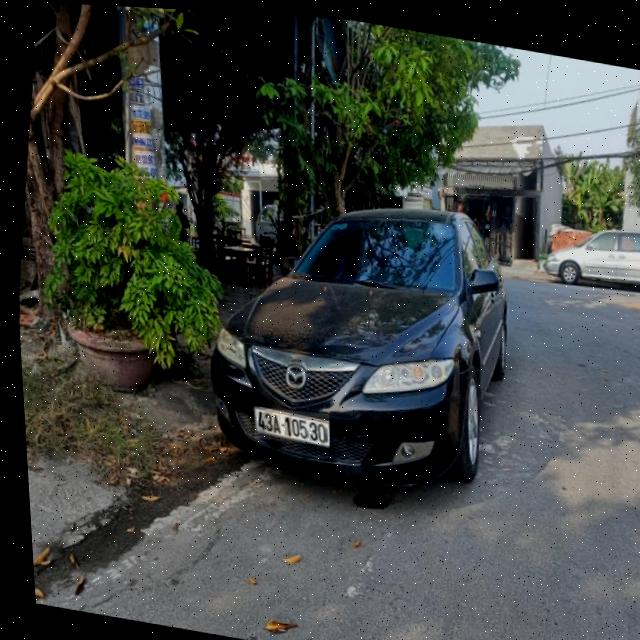car: (184, 160, 542, 522), (536, 209, 640, 303)
plate: (246, 401, 339, 453)
